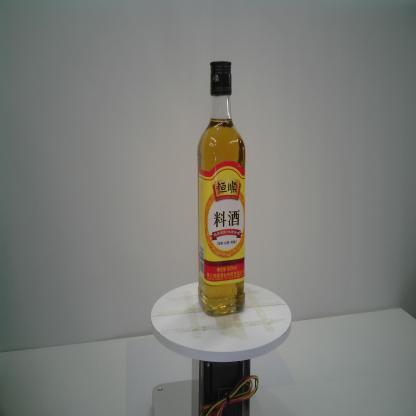Seasoner: (195, 59, 247, 318)
